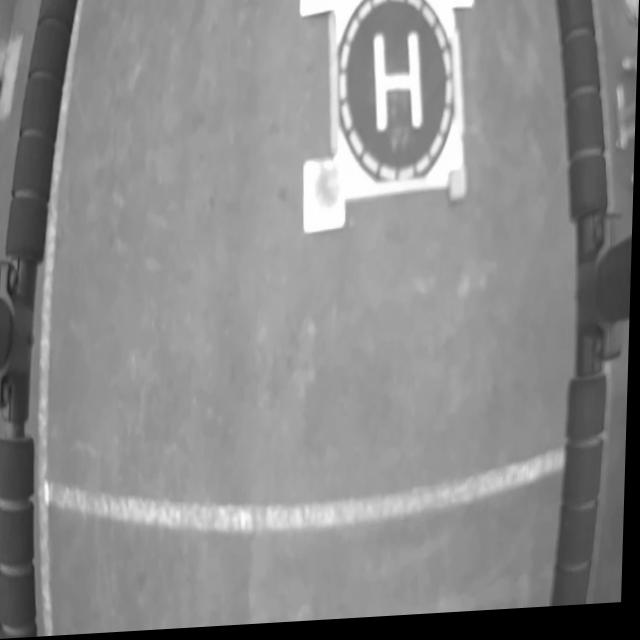Helipad: (374, 35, 426, 139)
